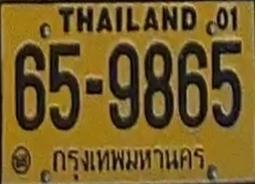5: (210, 40, 242, 127), (48, 43, 80, 130)
6: (14, 43, 45, 130), (177, 42, 207, 127)
8: (143, 43, 173, 128)
9: (108, 44, 138, 128)
BKK: (46, 144, 211, 177)
